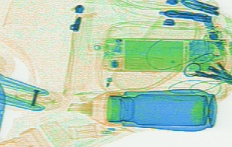metalcup: (76, 87, 217, 131)
smallelectronicequipment: (99, 31, 227, 73)
